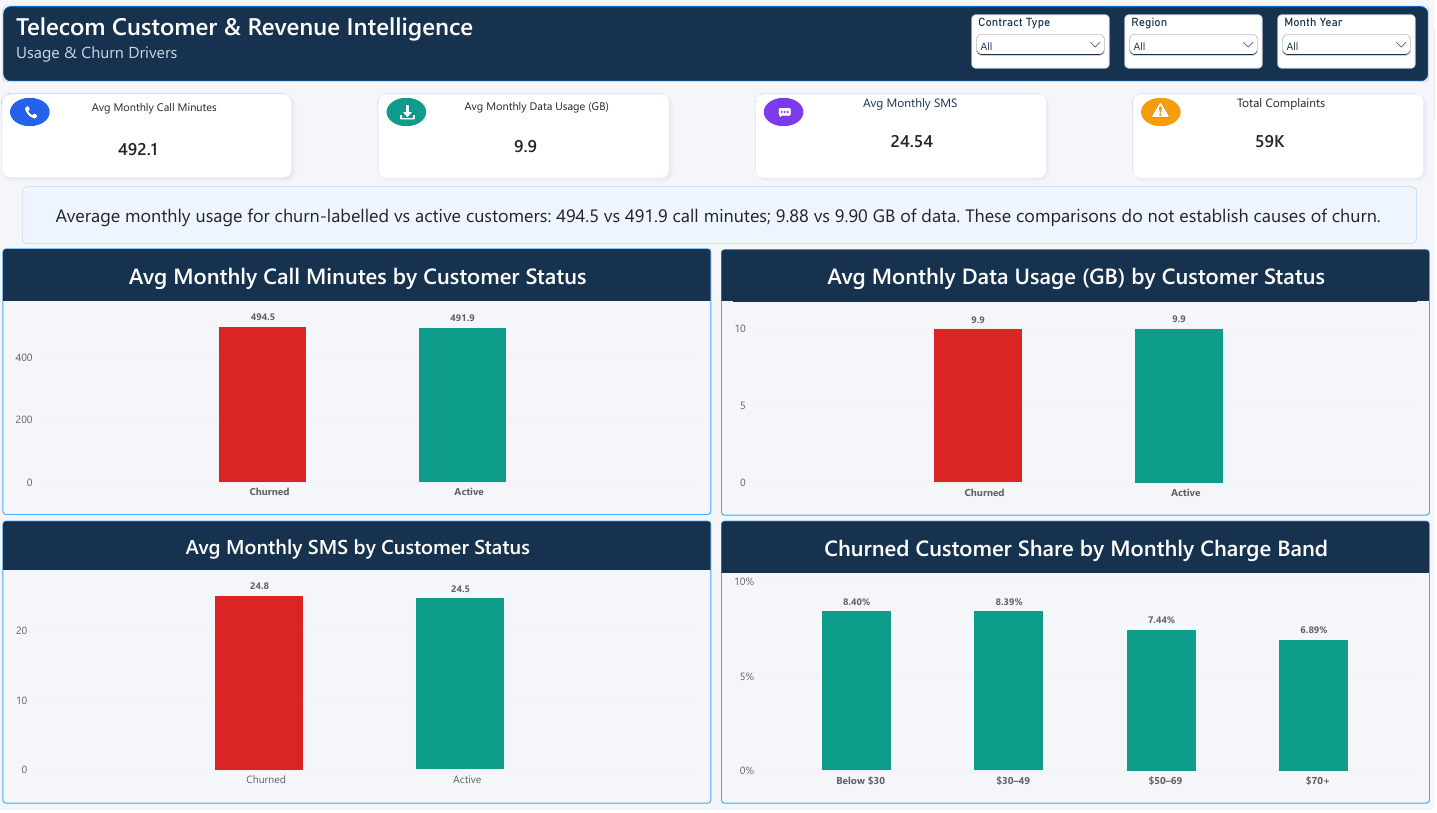

The page's visual inventory and layout, read from the dashboard file:
{"tool":"powerbi","page":{"name":"Usage & Churn Drivers","canvas":[1920,1080],"ordinal":2},"visuals":[{"type":"shape","box":[10,6,1902,102],"z":0},{"type":"textbox","box":[28,10,760,112],"z":1000},{"type":"slicer","fields":{"Values":["DimDate.Month Year"]},"box":[1710,18,184,72],"z":2000},{"type":"slicer","fields":{"Values":["DimCustomer.Region"]},"box":[1506,18,184,72],"z":3000},{"type":"slicer","fields":{"Values":["DimCustomer.ContractType"]},"box":[1302,18,184,72],"z":4000},{"type":"group","id":"g1","title":"Group 7","box":[0,115,405,130],"z":5000},{"type":"group","id":"g2","title":"Group 2","box":[0,115,405,130],"z":5000,"group":"g24"},{"type":"shape","box":[0,115,405,130],"z":5000,"group":"g6"},{"type":"shape","box":[502.1,115,405.7,130],"z":5000,"group":"g8"},{"type":"group","id":"g3","title":"Group 2","box":[502.1,115,405.7,130],"z":5000,"group":"g11"},{"type":"shape","box":[1004.8,115,405.7,130],"z":5000,"group":"g9"},{"type":"group","id":"g4","title":"Group 2","box":[1004.8,115,405.7,130],"z":5000,"group":"g12"},{"type":"group","id":"g5","title":"Group 2","box":[1507.5,115,405.7,130],"z":5000,"group":"g13"},{"type":"shape","box":[1507.5,115,405.7,130],"z":5000,"group":"g10"},{"type":"group","id":"g6","title":"Group 1","box":[0,115,405,130],"z":6000,"group":"g19"},{"type":"group","id":"g7","title":"Group 7","box":[502.1,115,405.7,130],"z":6000},{"type":"group","id":"g8","title":"Group 1","box":[502.1,115,405.7,130],"z":6000,"group":"g20"},{"type":"group","id":"g9","title":"Group 1","box":[1004.8,115,405.7,130],"z":6000,"group":"g21"},{"type":"group","id":"g10","title":"Group 1","box":[1507.5,115,405.7,130],"z":6000,"group":"g22"},{"type":"group","id":"g11","title":"Group 5","box":[502.1,115,405.7,130],"z":6001,"group":"g25"},{"type":"group","id":"g12","title":"Group 5","box":[1004.8,115,405.7,130],"z":6001,"group":"g26"},{"type":"group","id":"g13","title":"Group 5","box":[1507.5,115,405.7,130],"z":6001,"group":"g27"},{"type":"group","id":"g14","title":"Group 7","box":[1004.8,115,405.7,130],"z":7000},{"type":"shape","box":[20.4,129.4,52.5,37.8],"z":7000,"group":"g24"},{"type":"shape","box":[522.5,129.4,52.6,37.8],"z":7000,"group":"g11"},{"type":"shape","box":[1025.2,129.4,52.6,37.8],"z":7000,"group":"g12"},{"type":"shape","box":[1527.9,129.4,52.6,37.8],"z":7000,"group":"g13"},{"type":"group","id":"g15","title":"Group 3","box":[0,115,405,130],"z":7001,"group":"g2"},{"type":"group","id":"g16","title":"Group 3","box":[502.1,115,405.7,130],"z":7001,"group":"g3"},{"type":"group","id":"g17","title":"Group 3","box":[1004.8,115,405.7,130],"z":7001,"group":"g4"},{"type":"group","id":"g18","title":"Group 3","box":[1507.5,115,405.7,130],"z":7001,"group":"g5"},{"type":"group","id":"g19","title":"Group 4","box":[0,115,405,130],"z":7003,"group":"g15"},{"type":"group","id":"g20","title":"Group 4","box":[502.1,115,405.7,130],"z":7003,"group":"g16"},{"type":"group","id":"g21","title":"Group 4","box":[1004.8,115,405.7,130],"z":7003,"group":"g17"},{"type":"group","id":"g22","title":"Group 4","box":[1507.5,115,405.7,130],"z":7003,"group":"g18"},{"type":"group","id":"g23","title":"Group 7","box":[1507.5,115,405.7,130],"z":8000},{"type":"textbox","box":[1130.5,125.4,170.7,33.3],"z":9000,"group":"g9"},{"type":"textbox","box":[1633.2,125.4,170.7,33.3],"z":9000,"group":"g10"},{"type":"textbox","box":[625.9,128.8,200,32.5],"z":9000,"group":"g8"},{"type":"textbox","box":[128.9,131.4,185.8,34.8],"z":9000,"group":"g6"},{"type":"image","box":[1528,132,50.6,25.9],"z":9000,"group":"g27"},{"type":"image","box":[24.8,135.1,45.1,26.3],"z":9000,"group":"g24"},{"type":"image","box":[527,135.1,45.2,26.3],"z":9000,"group":"g25"},{"type":"image","box":[1029.7,135.1,45.2,26.3],"z":9000,"group":"g26"},{"type":"clusteredColumnChart","title":"Avg Monthly Call Minutes by Customer Status","fields":{"Category":["DimCustomer.Customer Status"],"Y":["_Measures.Average Call Minutes"]},"box":[10,330,945,355],"z":9000},{"type":"cardVisual","fields":{"Data":["_Measures.Average SMS"]},"box":[1177.3,157.5,136.1,56.7],"z":10000,"group":"g9"},{"type":"cardVisual","fields":{"Data":["_Measures.Total Complaints"]},"box":[1663.7,157.5,136.1,56.7],"z":10000,"group":"g10"},{"type":"cardVisual","fields":{"Data":["_Measures.Average Data Usage GB"]},"box":[675.6,164,95,57.5],"z":10000,"group":"g8"},{"type":"cardVisual","fields":{"Data":["_Measures.Average Call Minutes"]},"box":[147.5,169,108.6,56.5],"z":10000,"group":"g6"},{"type":"cardVisual","fields":{"Data":["_Measures.Usage Insight"]},"box":[35.9,246.8,1859.7,76.7],"z":10000},{"type":"clusteredColumnChart","title":"Avg Monthly SMS by Customer Status","fields":{"Category":["DimCustomer.Customer Status"],"Y":["_Measures.Average SMS"]},"box":[10,692.5,945,377.5],"z":11000},{"type":"group","id":"g24","title":"Group 8","box":[0,115,405,130],"z":11002,"group":"g1"},{"type":"group","id":"g25","title":"Group 8","box":[502.1,115,405.7,130],"z":11002,"group":"g7"},{"type":"group","id":"g26","title":"Group 8","box":[1004.8,115,405.7,130],"z":11002,"group":"g14"},{"type":"group","id":"g27","title":"Group 8","box":[1507.5,115,405.7,130],"z":11002,"group":"g23"},{"type":"clusteredColumnChart","title":"Churned Customer Share by Monthly Charge Band","fields":{"Category":["DimCustomer.Monthly Charge Band"],"Y":["_Measures.Churn Share in Selected Period"]},"box":[967.5,692.5,945,377.5],"z":12000},{"type":"clusteredColumnChart","title":"Avg Monthly Data Usage (GB) by Customer Status","fields":{"Category":["DimCustomer.Customer Status"],"Y":["_Measures.Average Data Usage GB"]},"box":[968.3,330.6,945,355],"z":13000}]}

Visuals, with their boxes in screenshot pixels (x1, y1, x2, y2), scaled from the page's 1920x1080 canvas onto the 1437x813 screenshot:
shape: (7, 5, 1431, 81)
textbox: (21, 8, 590, 92)
slicer - DimDate.Month Year: (1280, 14, 1418, 68)
slicer - DimCustomer.Region: (1127, 14, 1265, 68)
slicer - DimCustomer.ContractType: (974, 14, 1112, 68)
"Group 7" group: (0, 87, 303, 184)
"Group 2" group: (0, 87, 303, 184)
shape: (0, 87, 303, 184)
shape: (376, 87, 679, 184)
"Group 2" group: (376, 87, 679, 184)
shape: (752, 87, 1056, 184)
"Group 2" group: (752, 87, 1056, 184)
"Group 2" group: (1128, 87, 1432, 184)
shape: (1128, 87, 1432, 184)
"Group 1" group: (0, 87, 303, 184)
"Group 7" group: (376, 87, 679, 184)
"Group 1" group: (376, 87, 679, 184)
"Group 1" group: (752, 87, 1056, 184)
"Group 1" group: (1128, 87, 1432, 184)
"Group 5" group: (376, 87, 679, 184)
"Group 5" group: (752, 87, 1056, 184)
"Group 5" group: (1128, 87, 1432, 184)
"Group 7" group: (752, 87, 1056, 184)
shape: (15, 97, 55, 126)
shape: (391, 97, 430, 126)
shape: (767, 97, 807, 126)
shape: (1144, 97, 1183, 126)
"Group 3" group: (0, 87, 303, 184)
"Group 3" group: (376, 87, 679, 184)
"Group 3" group: (752, 87, 1056, 184)
"Group 3" group: (1128, 87, 1432, 184)
"Group 4" group: (0, 87, 303, 184)
"Group 4" group: (376, 87, 679, 184)
"Group 4" group: (752, 87, 1056, 184)
"Group 4" group: (1128, 87, 1432, 184)
"Group 7" group: (1128, 87, 1432, 184)
textbox: (846, 94, 974, 119)
textbox: (1222, 94, 1350, 119)
textbox: (468, 97, 618, 121)
textbox: (96, 99, 236, 125)
image: (1144, 99, 1181, 119)
image: (19, 102, 52, 121)
image: (394, 102, 428, 121)
image: (771, 102, 804, 121)
"Avg Monthly Call Minutes by Customer Status" clusteredColumnChart: (7, 248, 715, 516)
cardVisual - _Measures.Average SMS: (881, 119, 983, 161)
cardVisual - _Measures.Total Complaints: (1245, 119, 1347, 161)
cardVisual - _Measures.Average Data Usage GB: (506, 123, 577, 167)
cardVisual - _Measures.Average Call Minutes: (110, 127, 192, 170)
cardVisual - _Measures.Usage Insight: (27, 186, 1419, 244)
"Avg Monthly SMS by Customer Status" clusteredColumnChart: (7, 521, 715, 805)
"Group 8" group: (0, 87, 303, 184)
"Group 8" group: (376, 87, 679, 184)
"Group 8" group: (752, 87, 1056, 184)
"Group 8" group: (1128, 87, 1432, 184)
"Churned Customer Share by Monthly Charge Band" clusteredColumnChart: (724, 521, 1431, 805)
"Avg Monthly Data Usage (GB) by Customer Status" clusteredColumnChart: (725, 249, 1432, 516)
